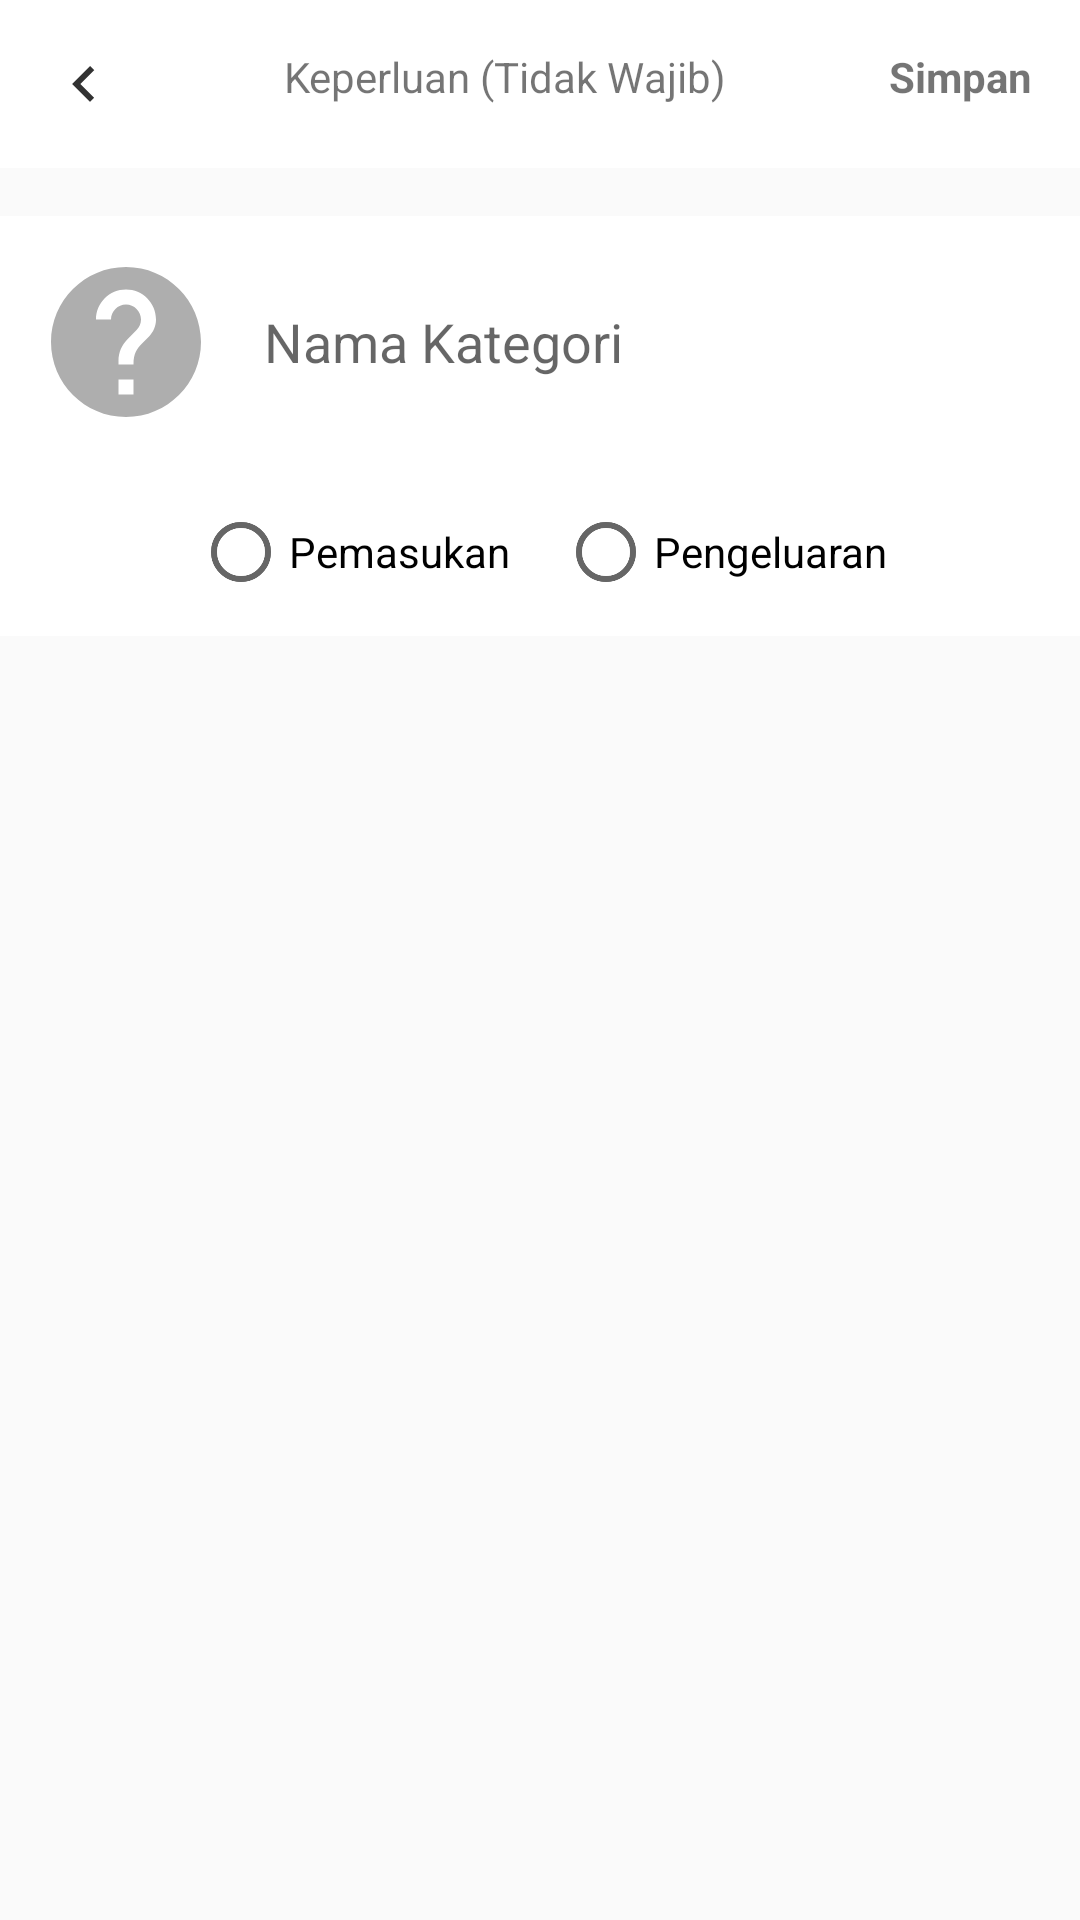

Icon click points for this 1080*1920 phone screenshot, format (x=x, y=y):
back arrow: (x=83, y=84)
help: (x=126, y=342)
